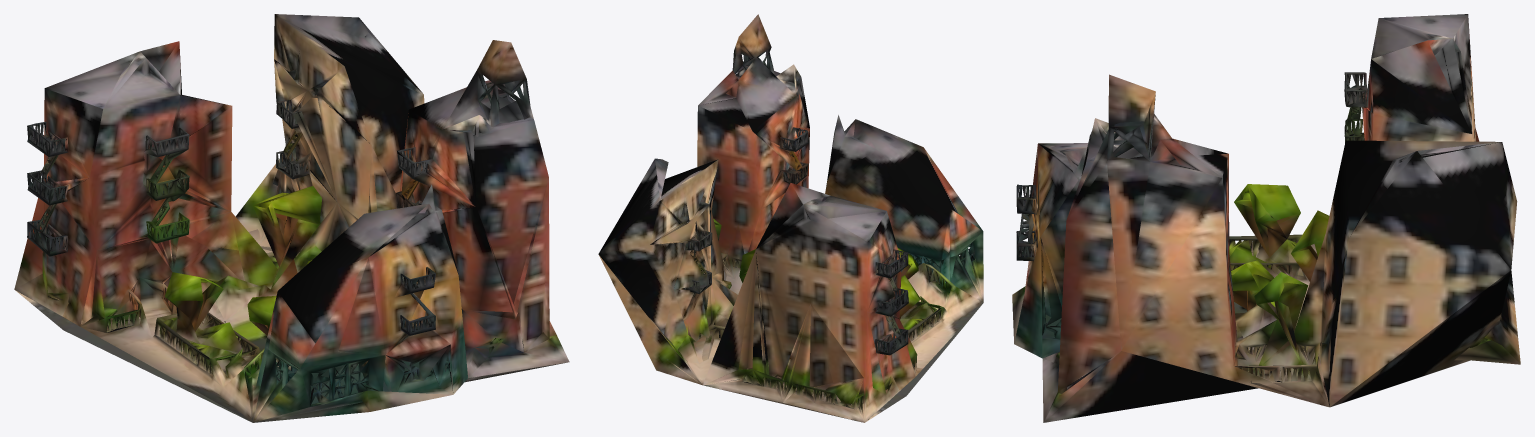
Rendered from block-walkups-a.far.glb.
3 views of the same model, side by side, from view 1: azimuth 30°, elevation 25°; view 2: azimuth 150°, elevation 25°; view 3: azimuth 270°, elevation 25° (orthographic). The views are drawn at different scales.
Parts seen in each view (by area): view 1: low; view 2: low; view 3: low.
Part boxes in pixels (x1=…): low: x1=14, y1=14, x2=569, y2=422; low: x1=598, y1=14, x2=983, y2=422; low: x1=1012, y1=14, x2=1520, y2=422.
Bounding box in the file's own units: 0.8339 × 0.6897 × 0.949.
1 material, 1 textured.
